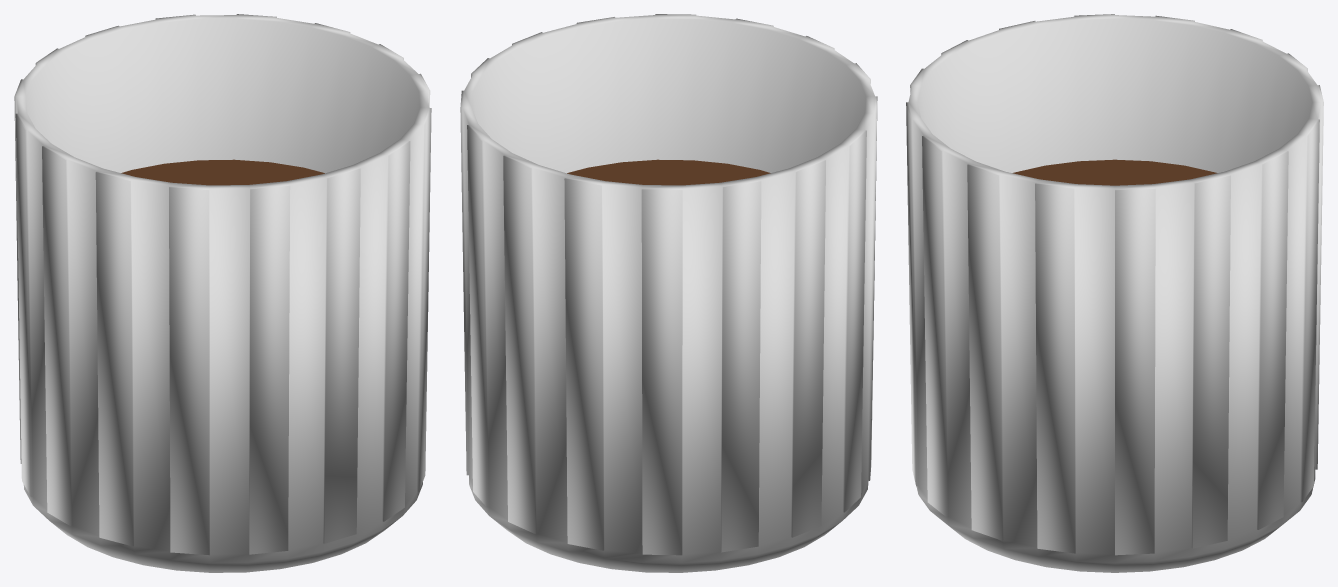
File: Whiskey Glass.fbx
3 renders of one model, left to right at view 1: azimuth 30°, elevation 25°; view 2: azimuth 150°, elevation 25°; view 3: azimuth 270°, elevation 25°, orthographic.
Visible parts, largest first — view 1: Cylinder.001; view 2: Cylinder.001; view 3: Cylinder.001.
Part boxes in pixels (x1=…): Cylinder.001: x1=14, y1=14, x2=431, y2=572; Cylinder.001: x1=460, y1=14, x2=877, y2=572; Cylinder.001: x1=906, y1=14, x2=1323, y2=572.
Size of the model in its own units: 820 by 875 by 820.
